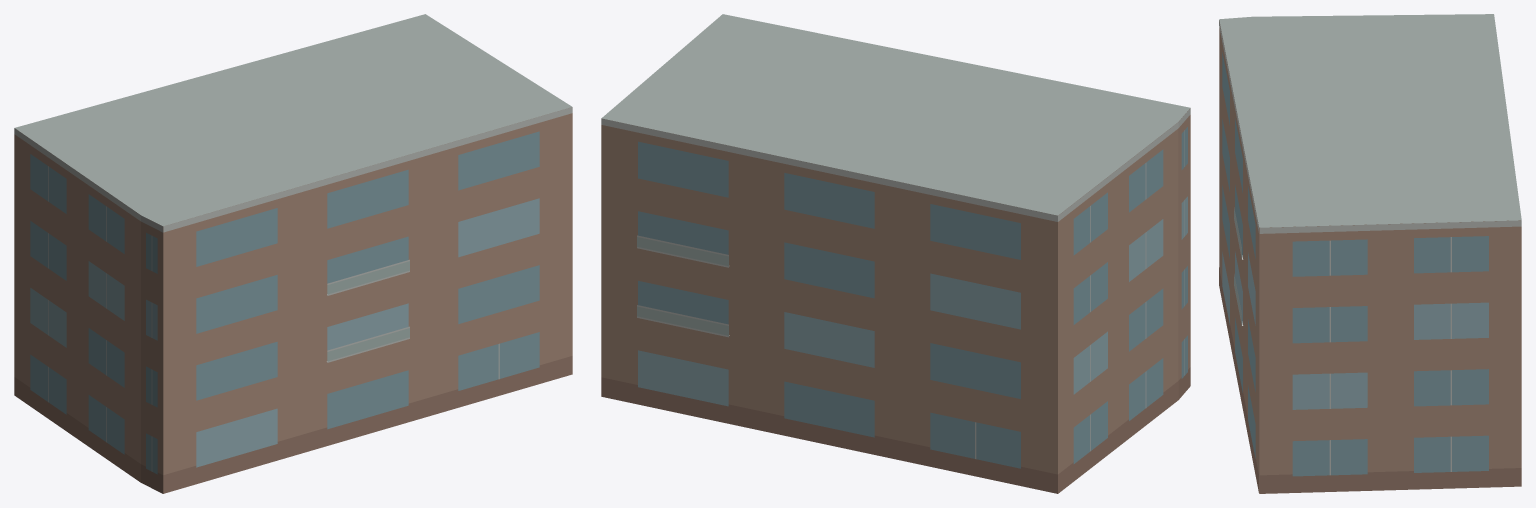
Rendered from survey-upis-32758391.glb.
The picture shows the model from 3 angles, left to right: view 1: azimuth 30°, elevation 25°; view 2: azimuth 150°, elevation 25°; view 3: azimuth 270°, elevation 25°; orthographic projection. The views are drawn at different scales.
Visible parts, largest first — view 1: survey-upis-32758391.tmp; view 2: survey-upis-32758391.tmp; view 3: survey-upis-32758391.tmp.
Boxes of the visible parts, x1,y1,x2,y2 form: survey-upis-32758391.tmp: (14,14,572,493); survey-upis-32758391.tmp: (601,14,1190,493); survey-upis-32758391.tmp: (1219,14,1521,493).
Bounding box in the file's own units: 18.09 × 10.5 × 10.83.
